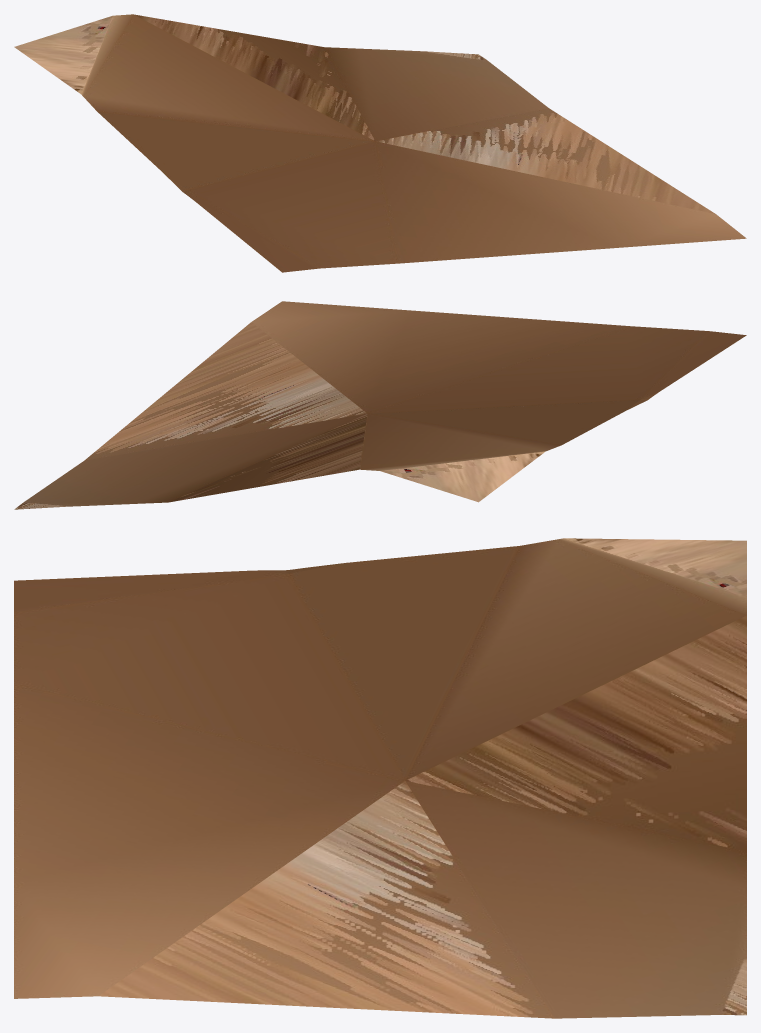
3 renders of one model, top to bottom at view 1: azimuth 30°, elevation 25°; view 2: azimuth 150°, elevation 25°; view 3: azimuth 270°, elevation 25°, orthographic. The views are drawn at different scales.
Size of the model in its own units: 1.04 by 0.2798 by 1.04.
3 materials, 3 textured.
